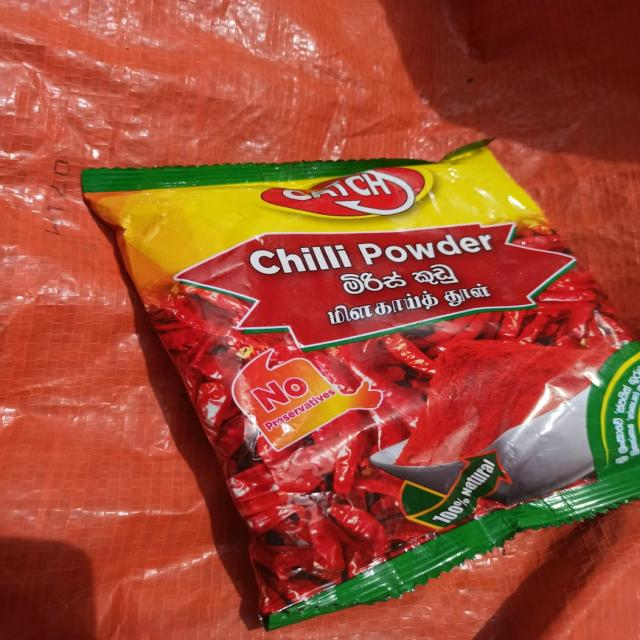Chilli Powder: (74, 136, 640, 638)
